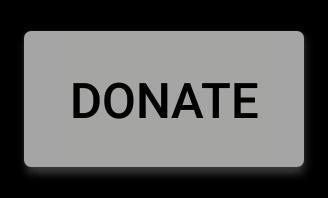Button: (1, 1, 327, 197)
